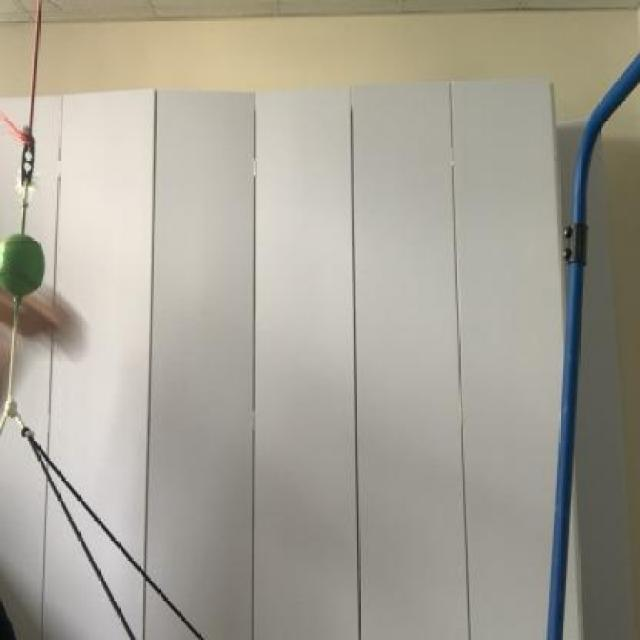baseball: (0, 228, 43, 300)
